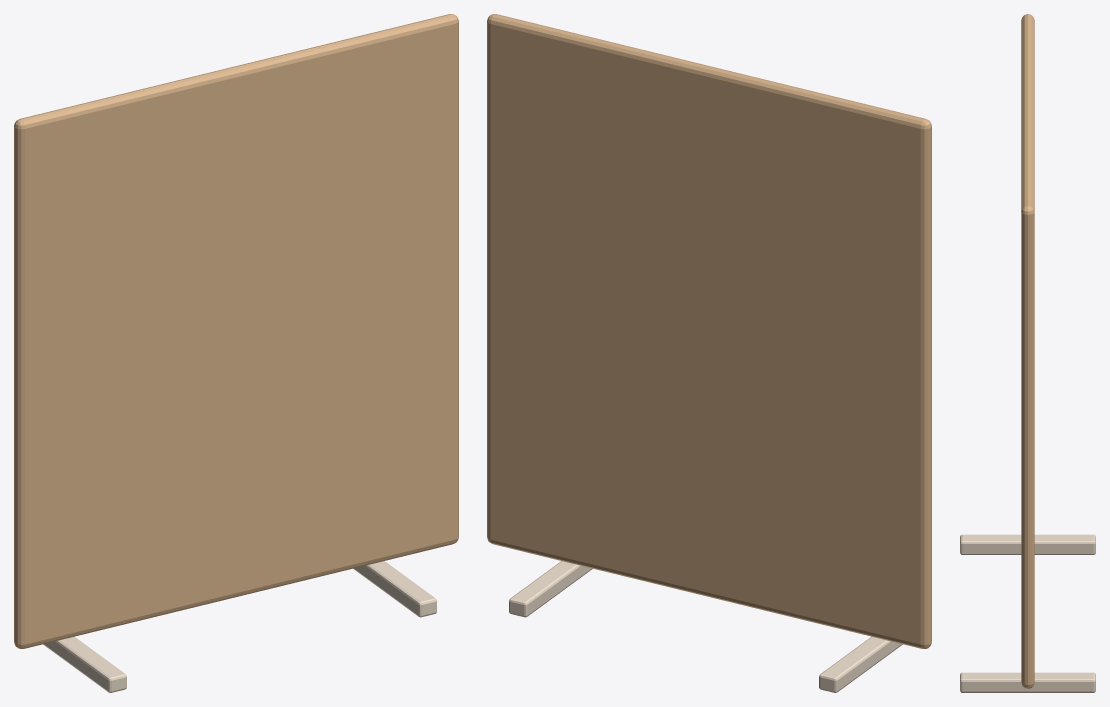
The model's file is partitions___dividers_asset_catalog_76.glb.
3 views of the same model, side by side, from view 1: azimuth 30°, elevation 25°; view 2: azimuth 150°, elevation 25°; view 3: azimuth 270°, elevation 25° (orthographic). The views are drawn at different scales.
Visible parts, largest first — view 1: Cube; view 2: Cube; view 3: Cube.
Part boxes in pixels (box(x1,y1,x2,y2)): Cube: box(14, 14, 458, 692); Cube: box(487, 14, 931, 692); Cube: box(960, 14, 1095, 692).
Size of the model in its own units: 1.2 by 1.45 by 0.35.
